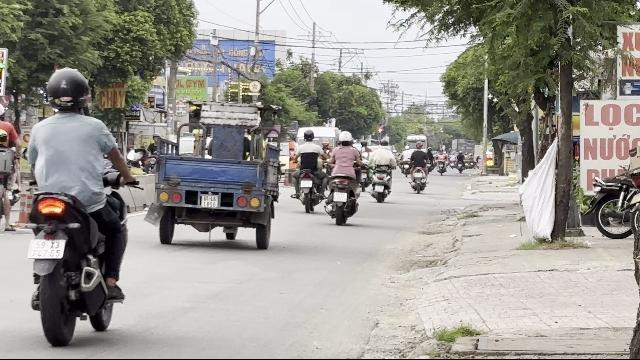helmet: (44, 67, 92, 115)
licenseplate: (28, 238, 64, 258)
motorcyclist: (18, 67, 138, 343)
